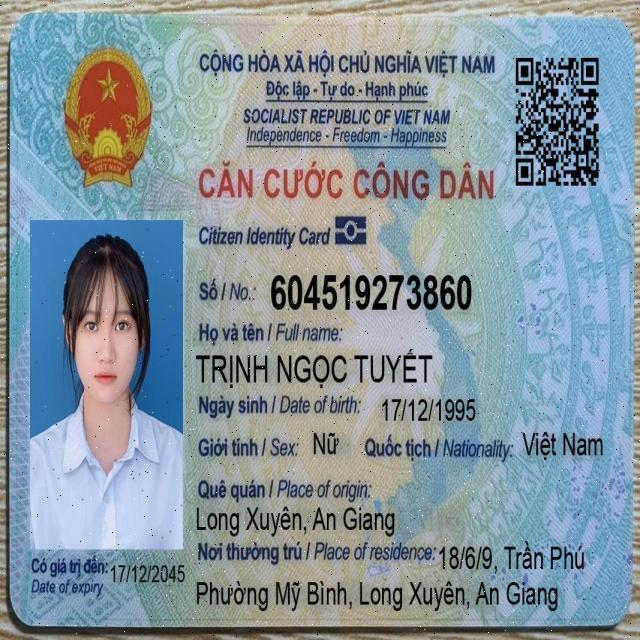current_place: (192, 573, 564, 618), (436, 535, 588, 576)
dob: (379, 391, 479, 430)
expire_date: (108, 556, 189, 592)
gender: (310, 426, 343, 462)
id: (268, 268, 475, 318)
name: (192, 344, 438, 393)
nationality: (518, 426, 609, 466)
origin_place: (192, 500, 399, 540)
